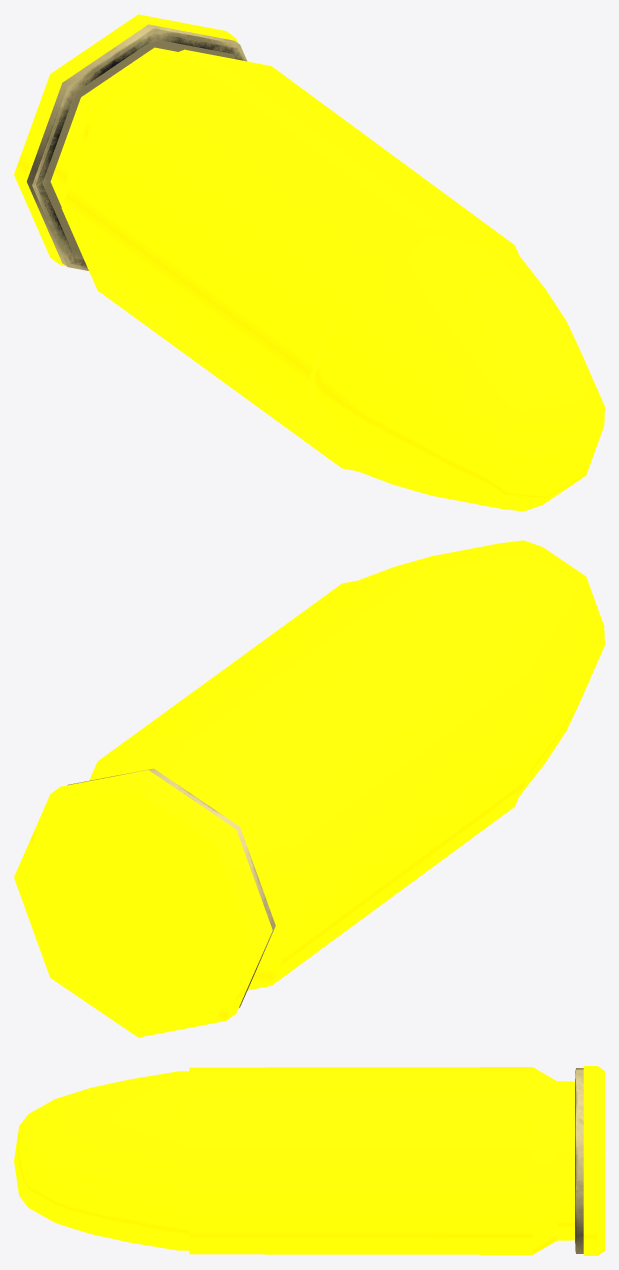
Rendered from 50_ae_round_object (merge).fbx.
3 views of the same model, one above another, from view 1: azimuth 30°, elevation 25°; view 2: azimuth 150°, elevation 25°; view 3: azimuth 270°, elevation 25° (orthographic). The views are drawn at different scales.
Visible parts, largest first — view 1: glint, 50_ae_loaded_low, 50_ae_case_low; view 2: glint, 50_ae_loaded_low; view 3: glint, 50_ae_loaded_low.
Boxes of the visible parts, box(x1,y1,x2,y2) form: glint: box(14, 14, 604, 511); 50_ae_loaded_low: box(26, 24, 247, 270); 50_ae_case_low: box(36, 32, 242, 266); glint: box(14, 540, 604, 1037); 50_ae_loaded_low: box(67, 768, 275, 1007); glint: box(14, 1066, 604, 1255); 50_ae_loaded_low: box(575, 1068, 583, 1253).
Bounding box in the file's own units: 0.0144 × 0.0144 × 0.0422.
